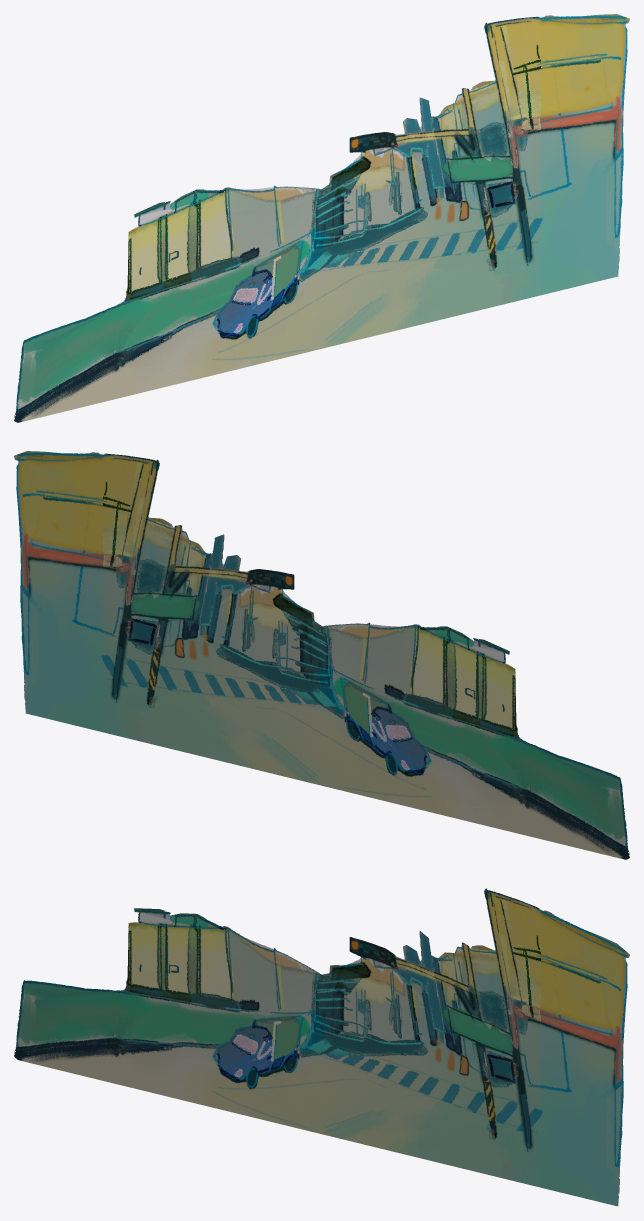
File: intersection.fbx
3 views of the same model, one above another, from view 1: azimuth 30°, elevation 25°; view 2: azimuth 150°, elevation 25°; view 3: azimuth 330°, elevation 25° (orthographic).
Visible parts, largest first — view 1: mask13; view 2: mask13; view 3: mask13.
Part boxes in pixels (left/top/right/bottom): mask13: left=14, top=14, right=629, bottom=422; mask13: left=14, top=451, right=629, bottom=859; mask13: left=14, top=888, right=629, bottom=1206.
Bounding box in the file's own units: 1.95 × 0.8646 × 1.91e-08.
1 material, 1 textured.
